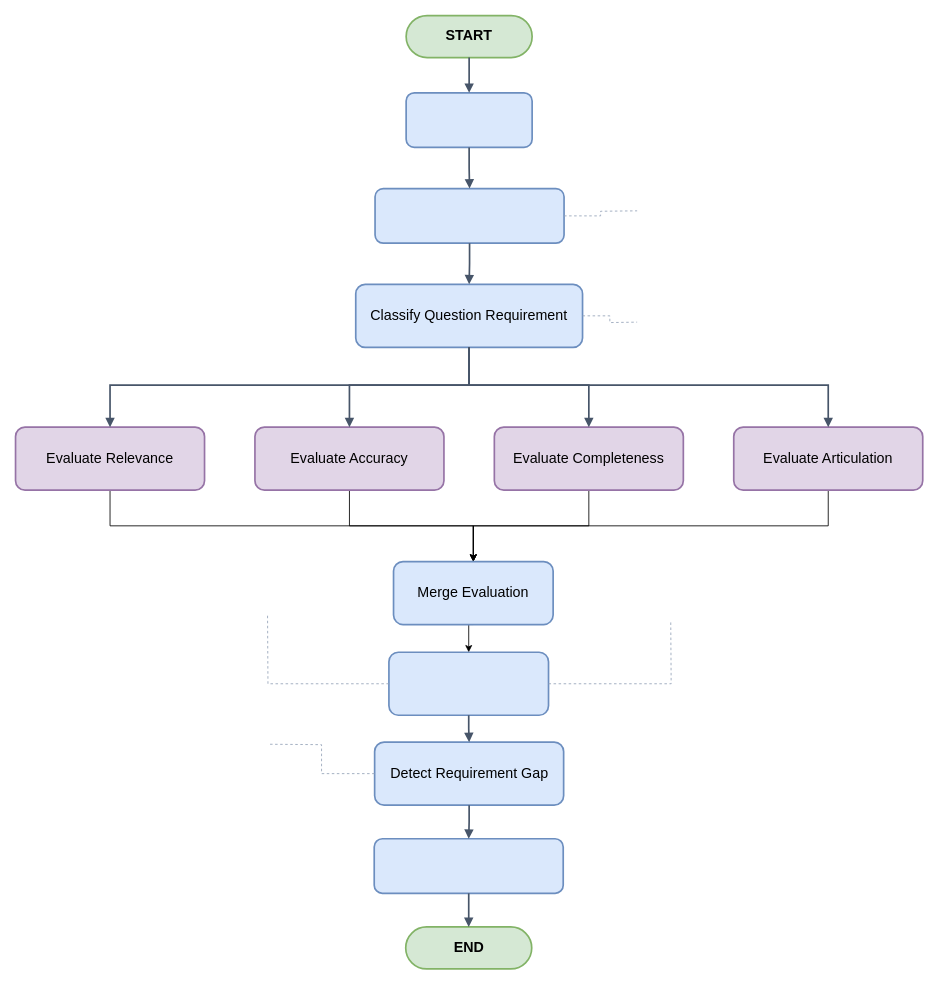
Some shapes in this 937 by 984 pixel diagram are drawn without their labels. Each missing label, with the centre of its shape:
Generate Evidence: [468,683]
Load Transcript: [469,120]
Persist Q/A Analysis: [468,865]
Segment Q/A Pairs: [469,215]
